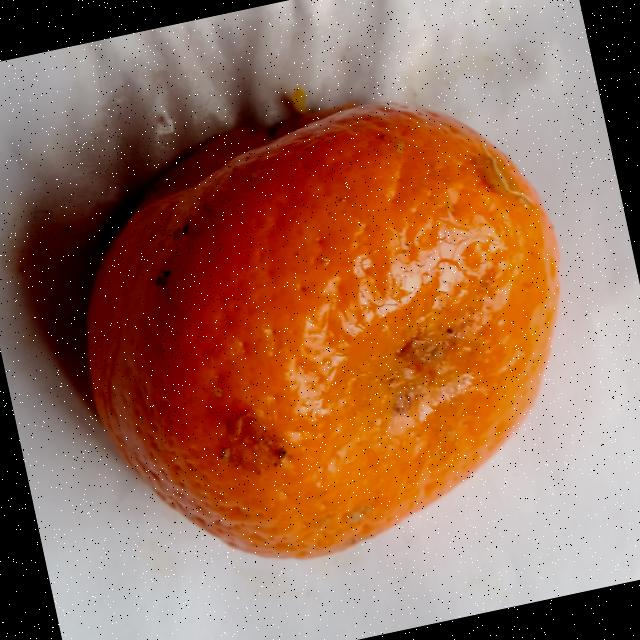Rotten: (38, 62, 610, 593)
